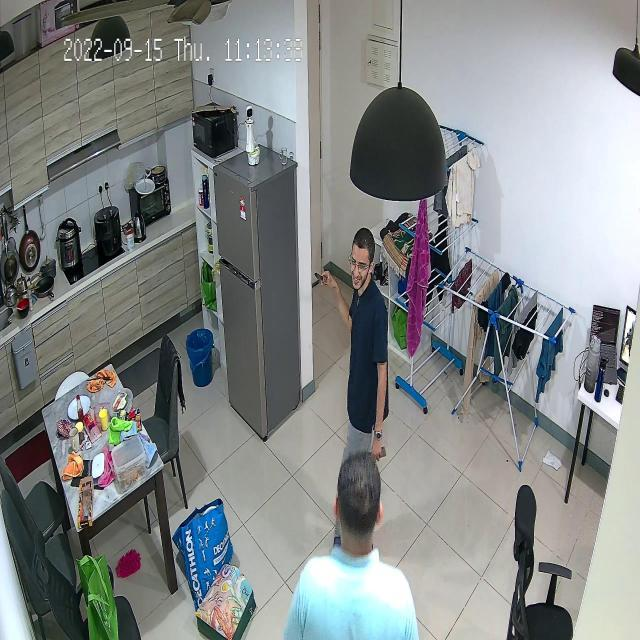Knife: (307, 257, 336, 294)
